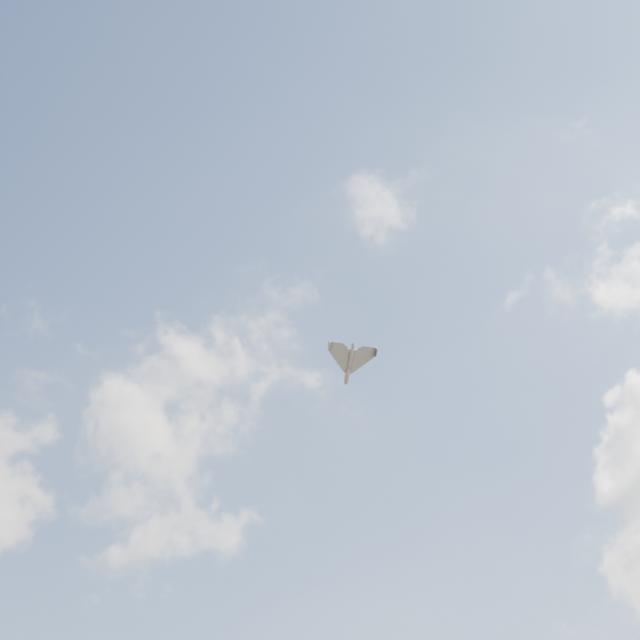Airaplan: (328, 340, 378, 385)
